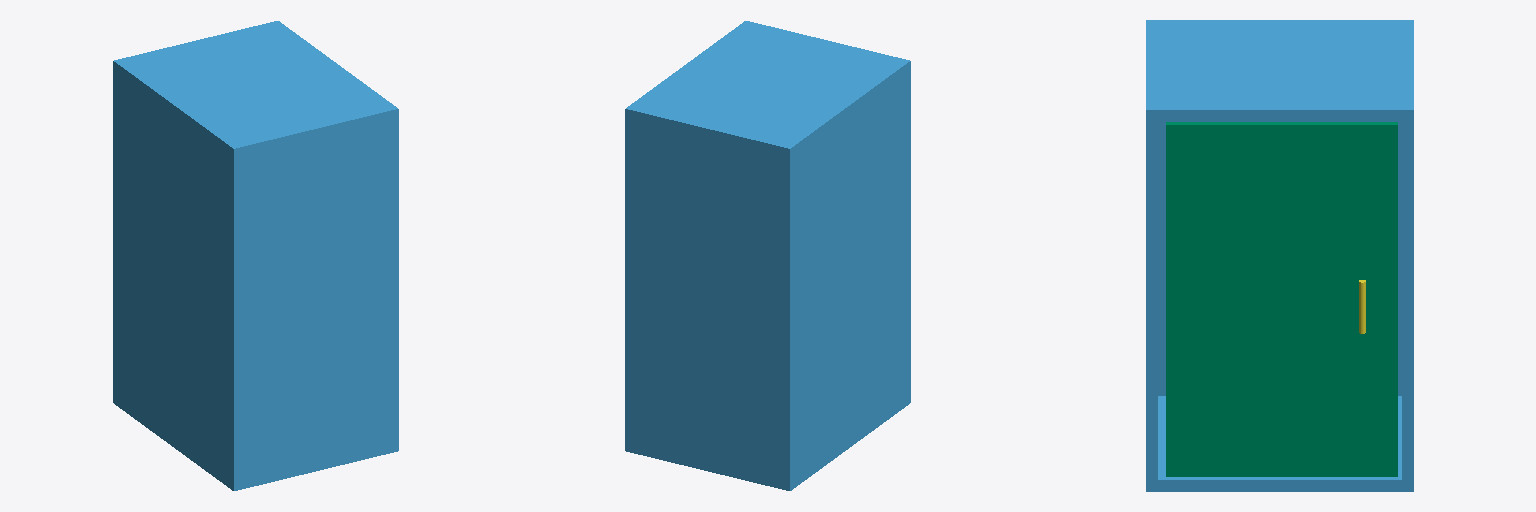
robot.urdf — my_cabinet:
<?xml version="1.0" ?>
<robot name="my_cabinet">
	<link name="world"/>
	<joint name="virtual_joint" type="fixed">
		<parent link="world"/>
		<child link="base_cabinet_link"/>
		<origin xyz="0.0 0.0 0.0" rpy="0.0 0.0 0.0"/>
	</joint>
	<link name="base_cabinet_link">
		<visual>
			<origin xyz="0.0 -0.0025 -0.2888288114191178" rpy="0.0 0.0 0.0"/>
			<geometry>
				<box size="0.3 0.37994298776240276 0.018"/>
			</geometry>
		</visual>
		<collision name="base_cabinet_link_collision_0">
			<origin xyz="0.0 -0.0025 -0.2888288114191178" rpy="0.0 0.0 0.0"/>
			<geometry>
				<box size="0.3 0.37994298776240276 0.018"/>
			</geometry>
		</collision>
		<visual>
			<origin xyz="0.0 0.1784714938812014 0.0" rpy="0.0 0.0 0.0"/>
			<geometry>
				<box size="0.3 0.018 0.5956576228382356"/>
			</geometry>
		</visual>
		<collision name="base_cabinet_link_collision_1">
			<origin xyz="0.0 0.1784714938812014 0.0" rpy="0.0 0.0 0.0"/>
			<geometry>
				<box size="0.3 0.018 0.5956576228382356"/>
			</geometry>
		</collision>
		<visual>
			<origin xyz="0.0 -0.1834714938812014 0.0" rpy="0.0 0.0 0.0"/>
			<geometry>
				<box size="0.3 0.018 0.5956576228382356"/>
			</geometry>
		</visual>
		<collision name="base_cabinet_link_collision_2">
			<origin xyz="0.0 -0.1834714938812014 0.0" rpy="0.0 0.0 0.0"/>
			<geometry>
				<box size="0.3 0.018 0.5956576228382356"/>
			</geometry>
		</collision>
		<visual>
			<origin xyz="0.0 -0.0025 0.2888288114191178" rpy="0.0 0.0 0.0"/>
			<geometry>
				<box size="0.3 0.37994298776240276 0.018"/>
			</geometry>
		</visual>
		<collision name="base_cabinet_link_collision_3">
			<origin xyz="0.0 -0.0025 0.2888288114191178" rpy="0.0 0.0 0.0"/>
			<geometry>
				<box size="0.3 0.37994298776240276 0.018"/>
			</geometry>
		</collision>
		<visual>
			<origin xyz="-0.141 -0.0025 0.0" rpy="0.0 0.0 0.0"/>
			<geometry>
				<box size="0.018 0.37994298776240276 0.5956576228382356"/>
			</geometry>
		</visual>
		<collision name="base_cabinet_link_collision_4">
			<origin xyz="-0.141 -0.0025 0.0" rpy="0.0 0.0 0.0"/>
			<geometry>
				<box size="0.018 0.37994298776240276 0.5956576228382356"/>
			</geometry>
		</collision>
		<inertial>
			<mass value="0.200000"/>
			<inertia ixx="0.008319" ixy="0.0" ixz="0.0" iyy="0.007413" iyz="0.0" izz="0.003906"/>
		</inertial>
	</link>
	<link name="door_link">
		<visual>
			<origin xyz="0.0 -0.16447149388120139 0.0"/>
			<geometry>
				<box size="0.018 0.32894298776240277 0.5496576228382356"/>
			</geometry>
		</visual>
		<collision name="door_link_collision">
			<origin xyz="0.0 -0.16447149388120139 0.0"/>
			<geometry>
				<box size="0.018 0.32894298776240277 0.5496576228382356"/>
			</geometry>
		</collision>
		<inertial>
			<mass value="0.200000"/>
			<inertia ixx="0.006839" ixy="0.0" ixz="0.0" iyy="0.005041" iyz="0.0" izz="0.001809"/>
		</inertial>
	</link>
	<joint name="door_joint" type="revolute">
		<origin xyz="0.141 -0.16447149388120139 0.0" rpy="0.000000 -0.000000 3.141593"/>
		<axis xyz="0 0 1"/>
		<parent link="base_cabinet_link"/>
		<child link="door_link"/>
		<limit effort="50" lower="-1.658062789394613" upper="0" velocity="10"/>
		<dynamics friction="3.5" damping="3.5"/>
	</joint>
	<link name="handle_link">
		<visual>
			<origin xyz="0.0 0.0 0.0" rpy="0.0 0.0 0.0"/>
			<geometry>
				<cylinder length="0.08" radius="0.005"/>
			</geometry>
		</visual>
		<collision name="handle_link_collision_0">
			<origin xyz="0.0 0.0 0.0" rpy="0.0 0.0 0.0"/>
			<geometry>
				<cylinder length="0.08" radius="0.005"/>
			</geometry>
		</collision>
		<visual>
			<origin xyz="-0.01 0.0 0.02" rpy="0.0 1.5707963267948966 0.0"/>
			<geometry>
				<cylinder length="0.02" radius="0.003"/>
			</geometry>
		</visual>
		<collision name="handle_link_collision_1">
			<origin xyz="-0.01 0.0 0.02" rpy="0.0 1.5707963267948966 0.0"/>
			<geometry>
				<cylinder length="0.01" radius="0.003"/>
			</geometry>
		</collision>
		<visual>
			<origin xyz="-0.01 0.0 -0.02" rpy="0.0 1.5707963267948966 0.0"/>
			<geometry>
				<cylinder length="0.02" radius="0.003"/>
			</geometry>
		</visual>
		<collision name="handle_link_collision_2">
			<origin xyz="-0.01 0.0 -0.02" rpy="0.0 1.5707963267948966 0.0"/>
			<geometry>
				<cylinder length="0.02" radius="0.003"/>
			</geometry>
		</collision>
		<inertial>
			<mass value="0.050000"/>
			<inertia ixx="0.000027" ixy="0.0" ixz="0.0" iyy="0.000029" iyz="0.0" izz="0.000003"/>
		</inertial>
	</link>
	<joint name="handle_joint" type="fixed">
		<origin xyz="-0.028999999999999998 -0.2789429877624028 0.0" rpy="0.000000 -0.000000 3.141593"/>
		<parent link="door_link"/>
		<child link="handle_link"/>
	</joint>
	<gazebo reference="base_cabinet_link">
		<sensor name="main_sensor" type="contact">
			<selfCollide>true</selfCollide>
			<alwaysOn>true</alwaysOn>
			<updateRate>5.0</updateRate>
			<material>Gazebo/Red</material>
			<contact>
				<collision>base_cabinet_link_collision_0_collision</collision>
				<collision>base_cabinet_link_collision_1_collision</collision>
				<collision>base_cabinet_link_collision_2_collision</collision>
				<collision>base_cabinet_link_collision_3_collision</collision>
				<collision>base_cabinet_link_collision_4_collision</collision>
			</contact>
			<plugin name="gazebo_ros_bumper_controller" filename="libgazebo_ros_bumper.so">
				<bumperTopicName>/contact</bumperTopicName>
				<frameName>world</frameName>
			</plugin>
		</sensor>
	</gazebo>
	<gazebo reference="door_link">
		<sensor name="main_sensor" type="contact">
			<selfCollide>true</selfCollide>
			<alwaysOn>true</alwaysOn>
			<updateRate>5.0</updateRate>
			<material>Gazebo/Red</material>
			<contact>
				<collision>door_link_collision_collision</collision>
			</contact>
			<plugin name="gazebo_ros_bumper_controller" filename="libgazebo_ros_bumper.so">
				<bumperTopicName>/contact_door</bumperTopicName>
				<frameName>contact_door</frameName>
			</plugin>
		</sensor>
	</gazebo>
	<gazebo reference="door_link">
		<mu>3.0</mu>
		<mu2>3.0</mu2>
		<kp>10000000</kp>
		<kd>100</kd>
	</gazebo>
</robot>

--- Render facts (derived) ---
3 views of the same robot in one strip: view 1: azimuth 30°, elevation 25°; view 2: azimuth 150°, elevation 25°; view 3: azimuth 270°, elevation 25° (orthographic).
Model my_cabinet with 4 links and 3 joints (1 revolute, 2 fixed), rooted at world, posed every joint at zero.
Visible links, largest first — view 1: base_cabinet_link; view 2: base_cabinet_link; view 3: door_link, base_cabinet_link.
Link boxes in pixels (x1,y1,x2,y2): base_cabinet_link: (113, 21, 398, 490); base_cabinet_link: (625, 21, 910, 490); door_link: (1166, 122, 1397, 476); base_cabinet_link: (1146, 20, 1413, 491).
Bounding box of the posed robot: 0.325 × 0.3799 × 0.5957 m (x, y, z).
Geometry: primitives only (box / cylinder / sphere), no mesh files.
